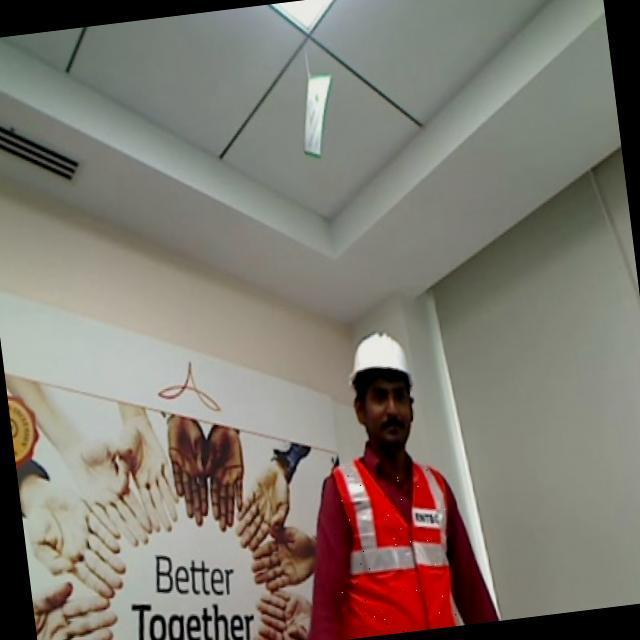helmet: (347, 321, 421, 417)
vest: (323, 444, 465, 639)
